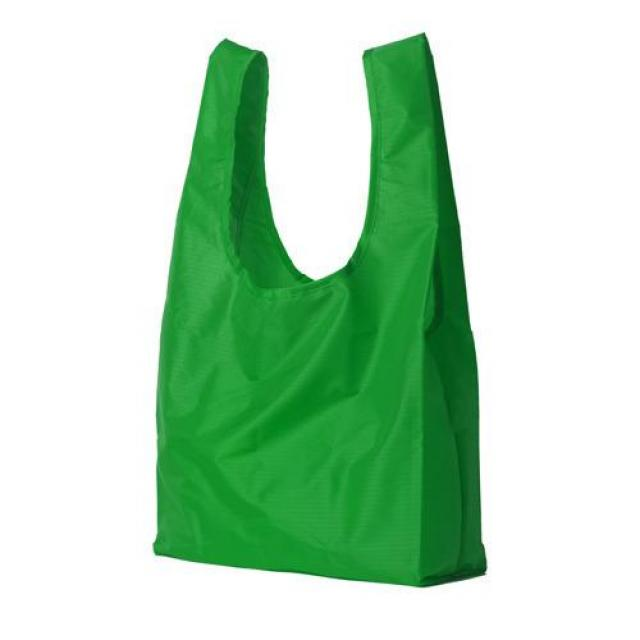plastic_bag: (141, 32, 507, 590)
